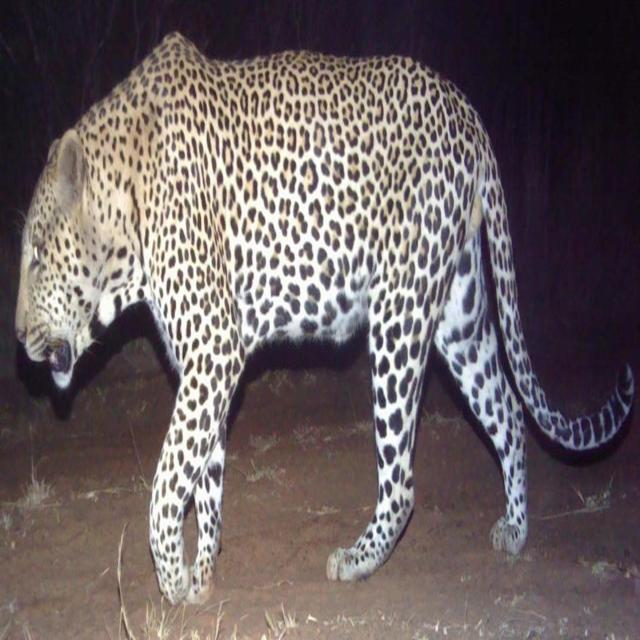Leopard: (0, 41, 640, 609)
